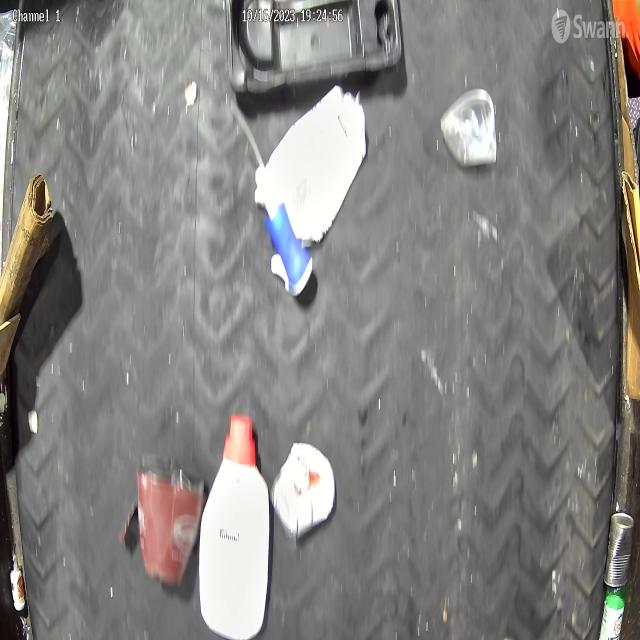can: (603, 511, 636, 590)
non_white_jug: (197, 408, 270, 640)
